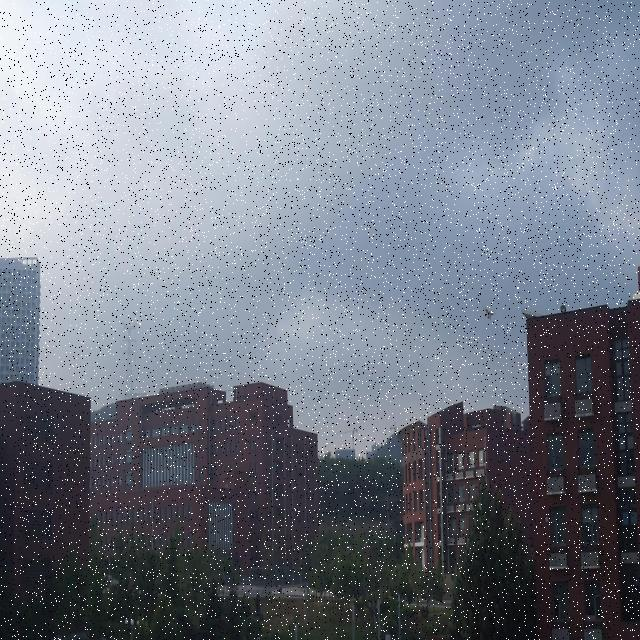UAV: (482, 305, 496, 321)
